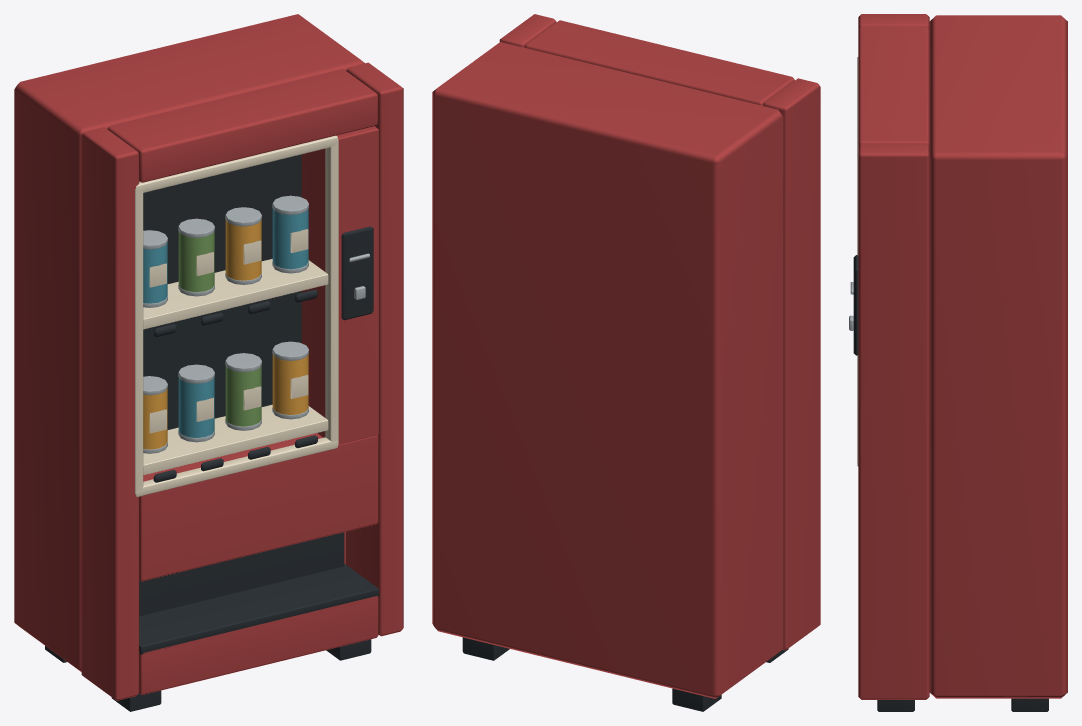
Rendered from S059_vending_machine_simple.glb.
3 renders of one model, left to right at view 1: azimuth 30°, elevation 25°; view 2: azimuth 150°, elevation 25°; view 3: azimuth 270°, elevation 25°, orthographic.
Visible parts, largest first — view 1: Vending_muted_red_paint, Vending_recess_and_feet, Vending_ivory_plastic, Vending_can_rims, Drink_blue, Drink_orange, Drink_green; view 2: Vending_muted_red_paint, Vending_recess_and_feet; view 3: Vending_muted_red_paint, Vending_recess_and_feet, Vending_ivory_plastic.
Boxes of the visible parts, x1,y1,x2,y2 form: Vending_muted_red_paint: (14,14,403,700); Vending_recess_and_feet: (45,154,379,711); Vending_ivory_plastic: (135,135,338,496); Vending_can_rims: (143,195,369,453); Drink_blue: (143,208,308,437); Drink_orange: (143,219,308,449); Drink_green: (178,231,261,426); Vending_muted_red_paint: (432,14,820,698); Vending_recess_and_feet: (462,637,788,711); Vending_muted_red_paint: (858,14,1067,699); Vending_recess_and_feet: (853,255,1048,711); Vending_ivory_plastic: (857,57,858,466).
Bounding box in the file's own units: 0.8 × 1.5 × 0.522.
